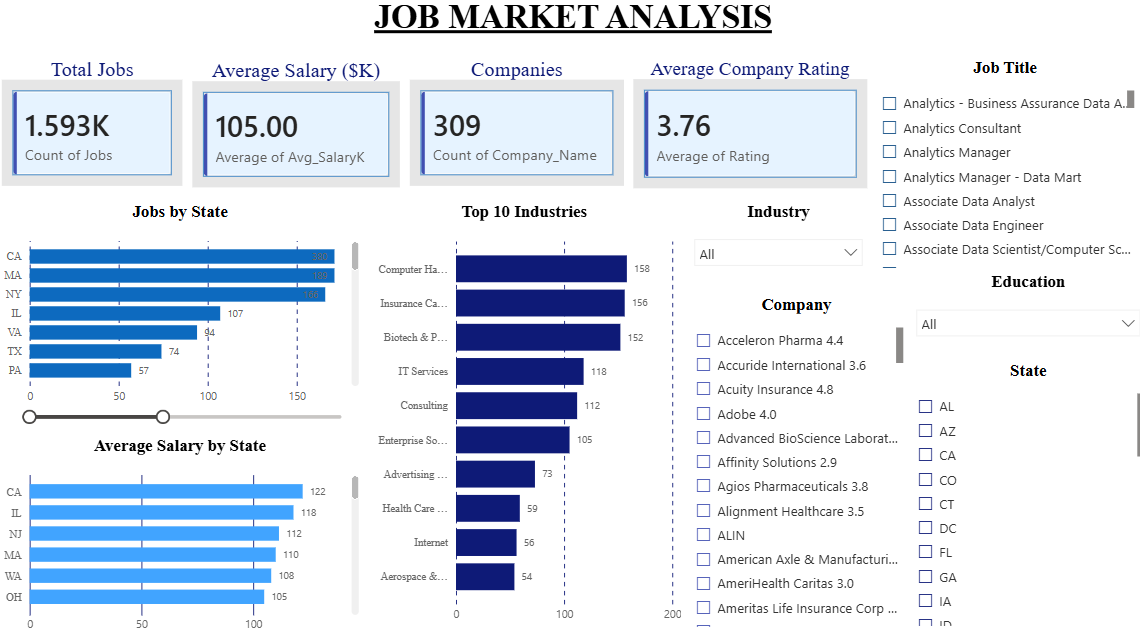

Layout of this report page (visuals, bound fields, positions):
{"tool":"powerbi","page":{"name":"Job Market - Executive Overview","canvas":[1280,720],"ordinal":1},"visuals":[{"type":"textbox","box":[0,0,1280,61.7],"z":0},{"type":"cardVisual","title":"Total Jobs","fields":{"Data":["CountNonNull(Job_Market_Final_Cleaned.ID)"]},"box":[0,71.7,211.4,148.6],"z":1000},{"type":"cardVisual","title":"Average Company Rating","fields":{"Data":["Avg(Job_Market_Final_Cleaned.Rating)"]},"box":[701.7,71.7,270,150],"z":2000},{"type":"cardVisual","title":"Companies","fields":{"Data":["Count(Job_Market_Final_Cleaned.Company_Name)"]},"box":[453.3,71.7,248.6,148.6],"z":3000},{"type":"cardVisual","title":"Average Salary ($K)","fields":{"Data":["Avg(Job_Market_Final_Cleaned.Avg_SalaryK)"]},"box":[211.7,73.3,241.4,148.6],"z":4000},{"type":"barChart","title":"Jobs by State","fields":{"Category":["Job_Market_Final_Cleaned.State"],"Y":["CountNonNull(Job_Market_Final_Cleaned.ID)"]},"box":[0,231.7,406.7,250],"z":5000},{"type":"clusteredBarChart","title":"Average Salary by State","fields":{"Category":["Job_Market_Final_Cleaned.State"],"Y":["Avg(Job_Market_Final_Cleaned.Avg_SalaryK)"]},"box":[0,491.7,406.7,228.3],"z":6000},{"type":"clusteredBarChart","title":"Top 10 Industries","fields":{"Category":["Job_Market_Final_Cleaned.Industry"],"Y":["CountNonNull(Job_Market_Final_Cleaned.ID)"]},"box":[406.7,231.7,358.3,476.7],"z":7000},{"type":"slicer","title":"State","fields":{"Values":["Job_Market_Final_Cleaned.State"]},"box":[1011.7,408.3,268.3,300],"z":8000},{"type":"slicer","title":"Industry","fields":{"Values":["Job_Market_Final_Cleaned.Industry"]},"box":[765,231.7,206.7,103.3],"z":9000},{"type":"slicer","title":"Company","fields":{"Values":["Job_Market_Final_Cleaned.Company_Name"]},"box":[765,335,246.7,373.3],"z":10000},{"type":"slicer","title":"Education","fields":{"Values":["Job_Market_Final_Cleaned.Degree"]},"box":[1011.7,310,268.3,98.3],"z":11000},{"type":"slicer","title":"Job Title","fields":{"Values":["Job_Market_Final_Cleaned.Job_Title"]},"box":[971.7,71.7,296.7,238.3],"z":12000}]}

Visuals, with their boxes in screenshot pixels (x1, y1, x2, y2), scaled from the page's 1280x720 canvas onto the 1140x637 screenshot:
textbox: (0,0,1139,55)
"Total Jobs" cardVisual: (0,63,188,195)
"Average Company Rating" cardVisual: (625,63,865,196)
"Companies" cardVisual: (404,63,625,195)
"Average Salary ($K)" cardVisual: (189,65,404,196)
"Jobs by State" barChart: (0,205,362,426)
"Average Salary by State" clusteredBarChart: (0,435,362,636)
"Top 10 Industries" clusteredBarChart: (362,205,681,627)
"State" slicer: (901,361,1139,627)
"Industry" slicer: (681,205,865,296)
"Company" slicer: (681,296,901,627)
"Education" slicer: (901,274,1139,361)
"Job Title" slicer: (865,63,1130,274)
